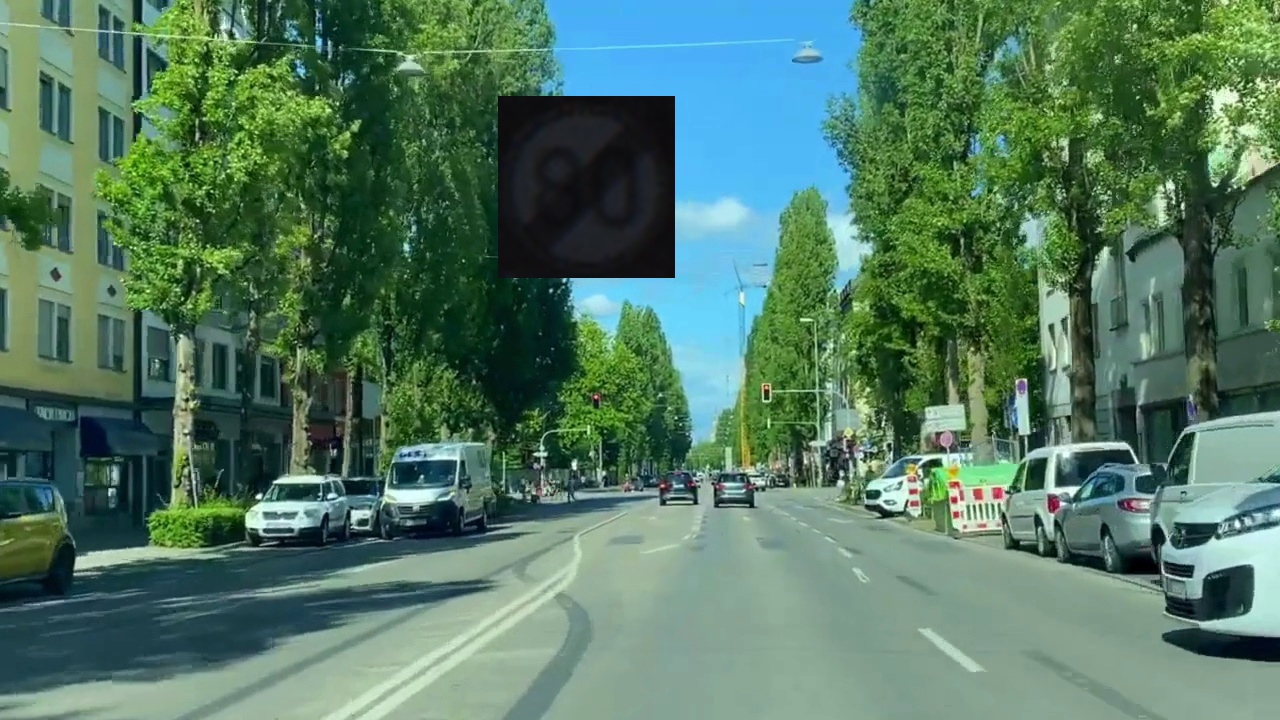End Speed 80: (498, 96, 675, 278)
